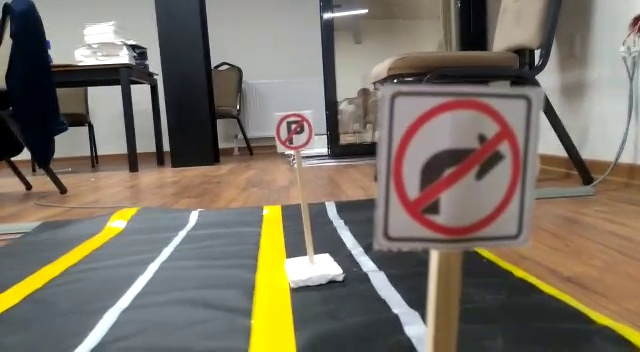park_yapilmaz: (274, 113, 314, 152)
saga_donulmez: (387, 90, 520, 238)
